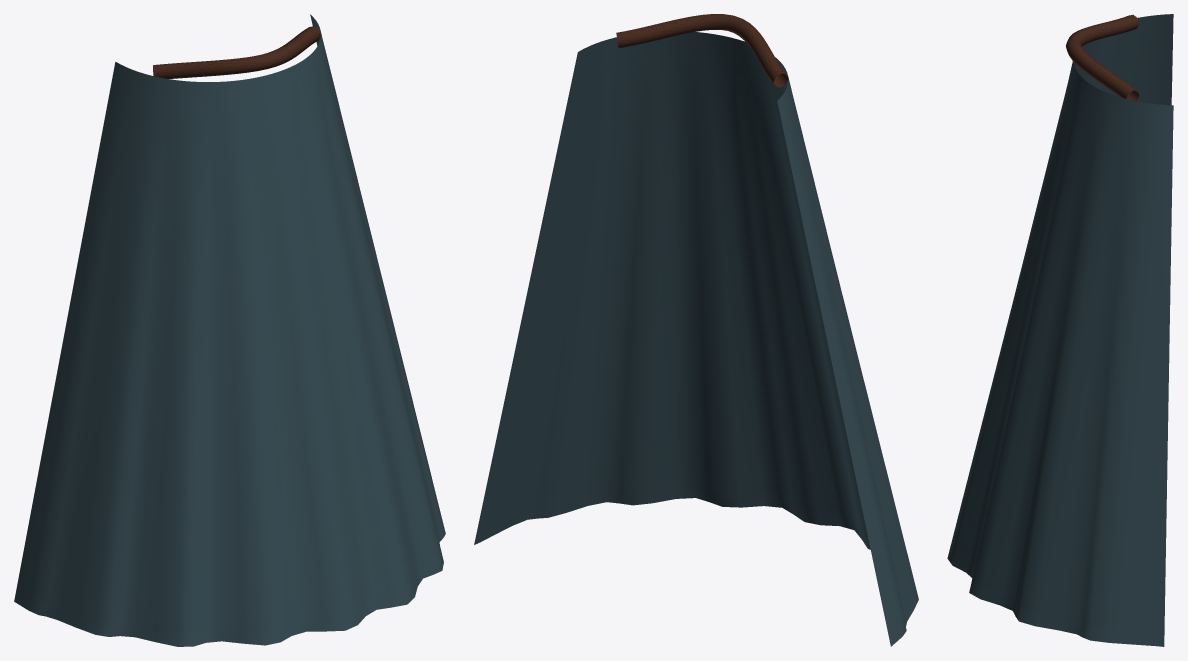
The picture shows the model from 3 angles, left to right: view 1: azimuth 30°, elevation 25°; view 2: azimuth 150°, elevation 25°; view 3: azimuth 270°, elevation 25°; orthographic projection. The views are drawn at different scales.
Parts seen in each view (by area): view 1: cloth.0, leather.1; view 2: cloth.0, leather.1; view 3: cloth.0, leather.1.
Part boxes in pixels (x1,y1,x2,y2): cloth.0: [14, 14, 445, 646]; leather.1: [153, 26, 320, 78]; cloth.0: [474, 32, 918, 646]; leather.1: [616, 14, 788, 87]; cloth.0: [947, 14, 1173, 646]; leather.1: [1066, 14, 1139, 100].
Bounding box in the file's own units: 0.9172 × 1.15 × 0.4586.
Materials: 2 (2 with a texture image).
